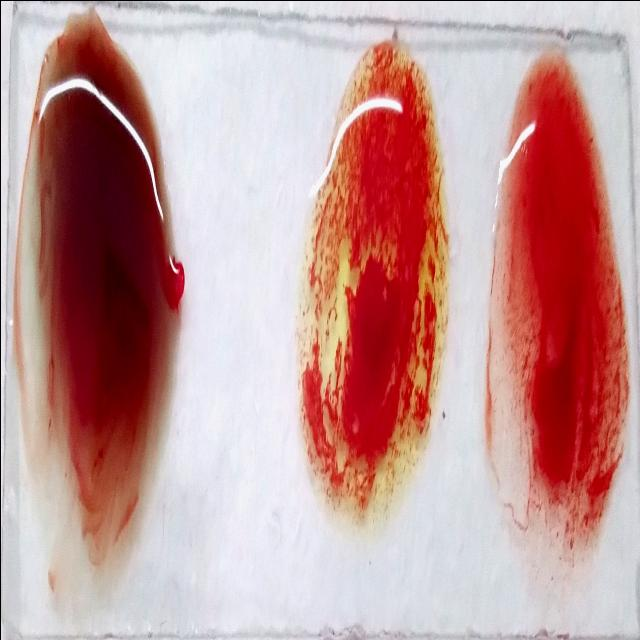B: (298, 41, 448, 528)
D: (488, 47, 628, 545)
